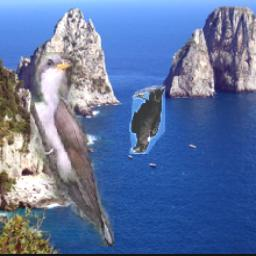Crow: (130, 85, 166, 154)
Cuckoo: (30, 53, 114, 248)
